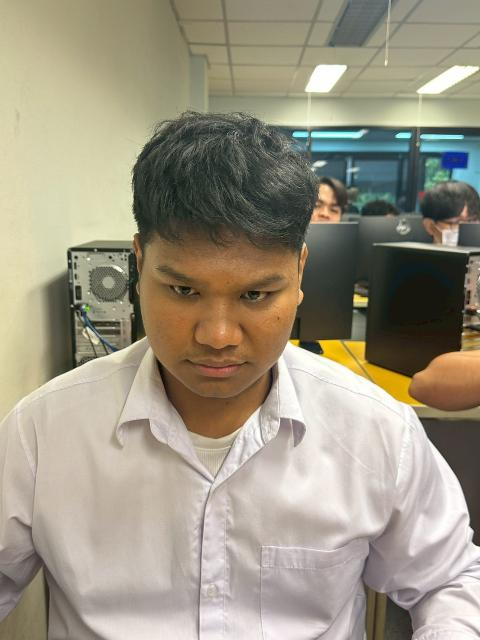fokus: (143, 208, 298, 400)
